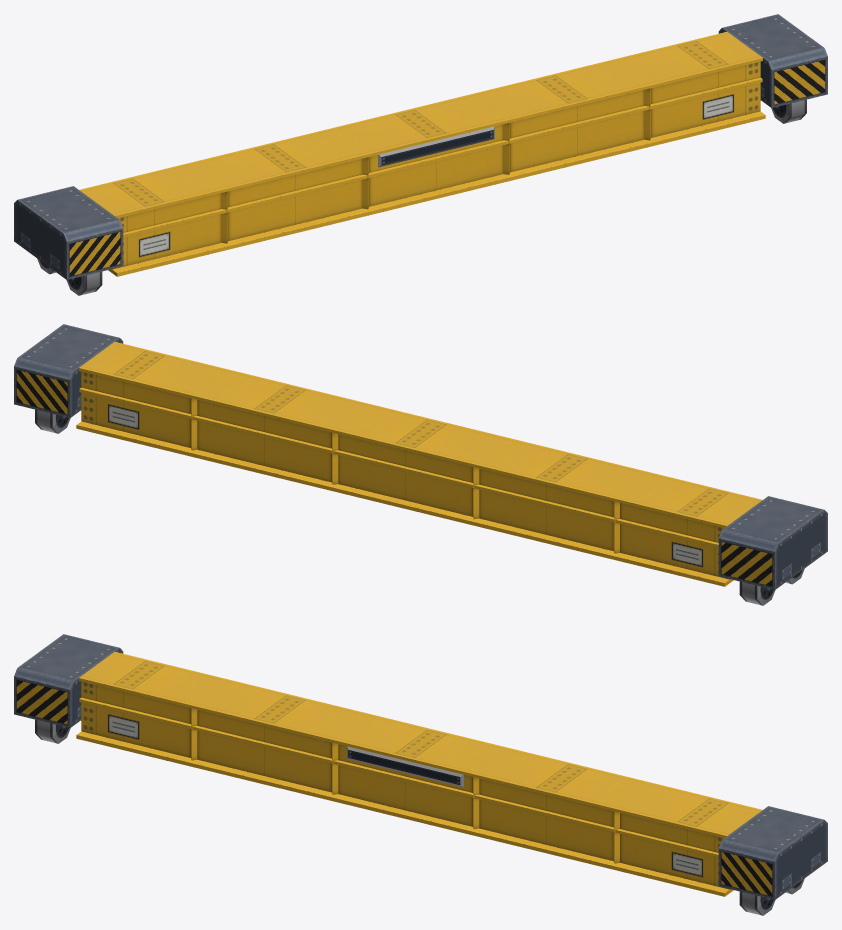
Rendered from yard-crane-body.glb.
3 renders of one model, top to bottom at view 1: azimuth 30°, elevation 25°; view 2: azimuth 150°, elevation 25°; view 3: azimuth 330°, elevation 25°, orthographic.
Visible parts, largest first — view 1: Yard-crane-bodyBody; view 2: Yard-crane-bodyBody; view 3: Yard-crane-bodyBody.
Boxes of the visible parts, x1,y1,x2,y2 form: Yard-crane-bodyBody: (14, 14, 827, 295); Yard-crane-bodyBody: (14, 324, 827, 605); Yard-crane-bodyBody: (14, 634, 827, 915).
Size of the model in its own units: 10.8 by 0.95 by 1.3.
1 material, 1 textured.
